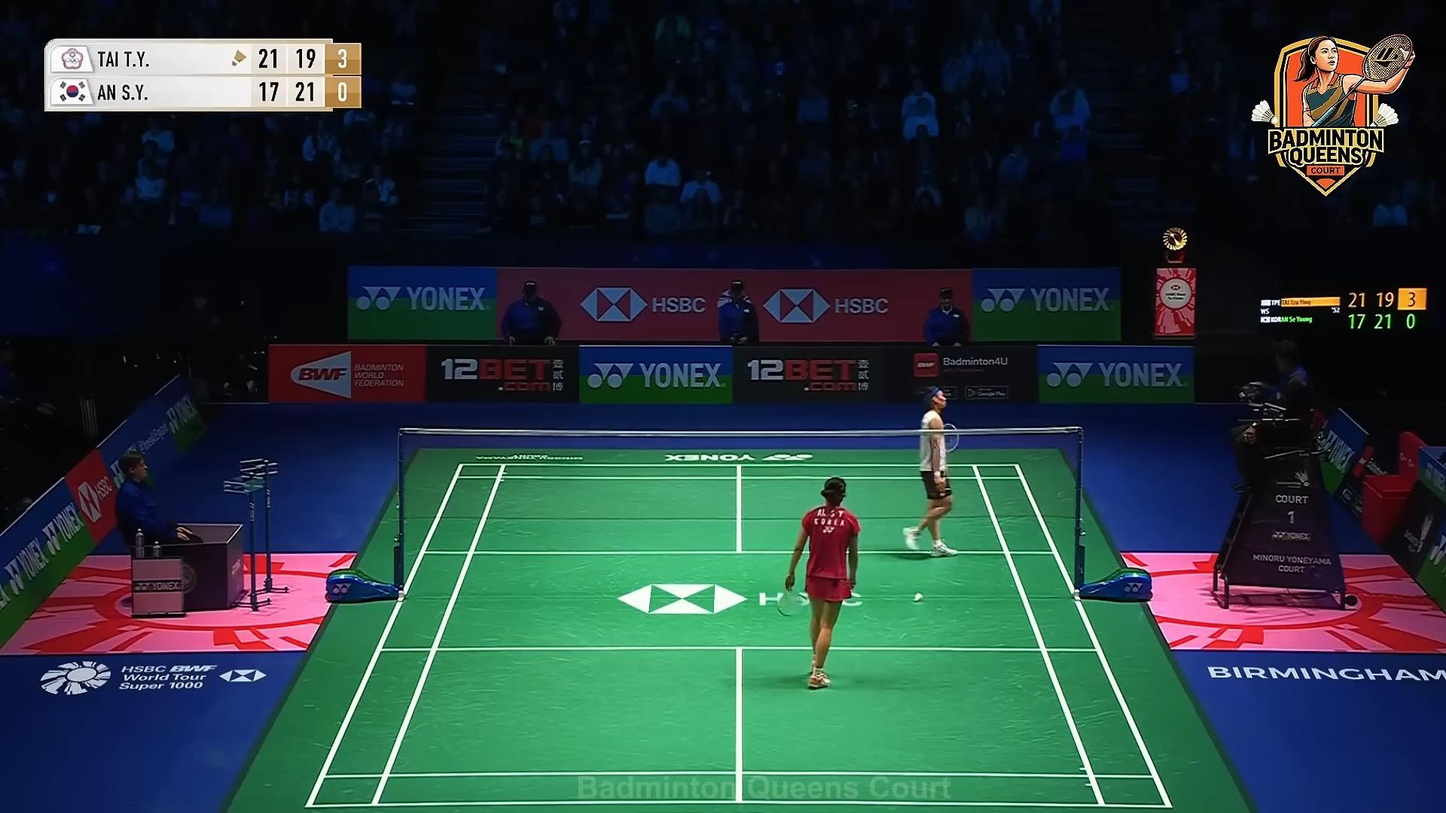player: (786, 477, 863, 691), (904, 387, 959, 558)
